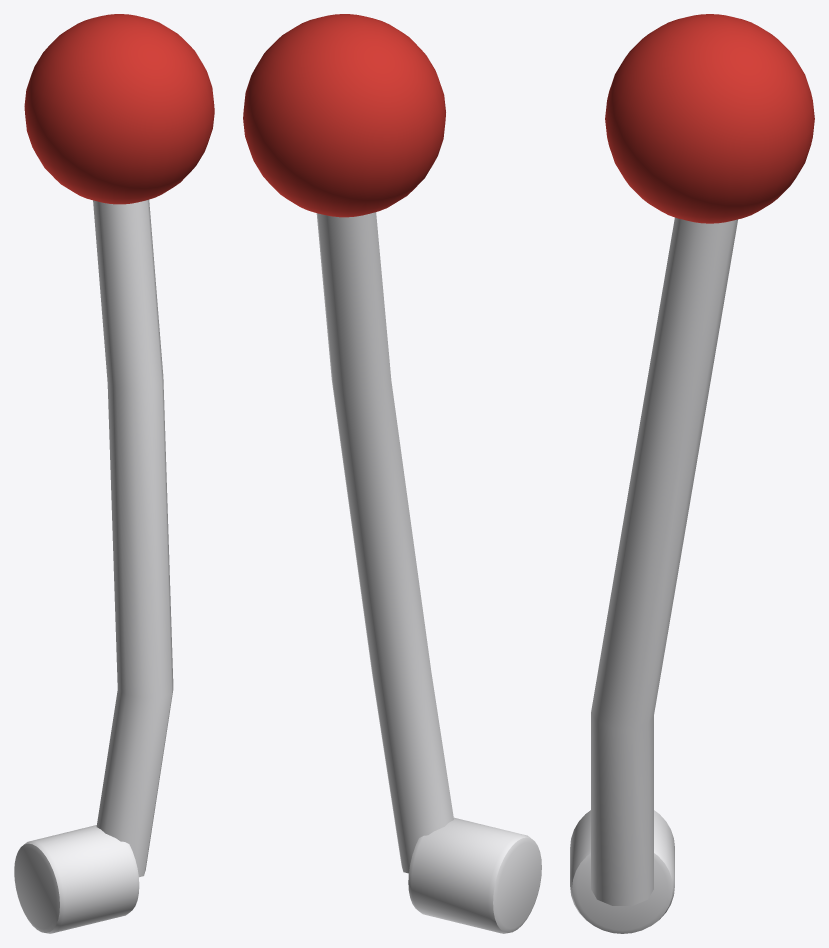
The model's file is slot_handle.glb.
3 renders of one model, left to right at view 1: azimuth 30°, elevation 25°; view 2: azimuth 150°, elevation 25°; view 3: azimuth 270°, elevation 25°, orthographic. The views are drawn at different scales.
Parts seen in each view (by area): view 1: arm, ball, axle; view 2: arm, ball, axle; view 3: arm, ball, axle.
Part boxes in pixels (box(x1,y1,x2,y2)): arm: box(93, 199, 173, 877); ball: box(24, 14, 214, 204); axle: box(14, 825, 139, 933); arm: box(316, 212, 453, 873); ball: box(243, 14, 445, 217); axle: box(408, 817, 541, 933); arm: box(591, 217, 737, 905); ball: box(605, 14, 814, 223); axle: box(570, 810, 674, 933).
Size of the model in its own units: 0.15 by 0.59 by 0.14.
